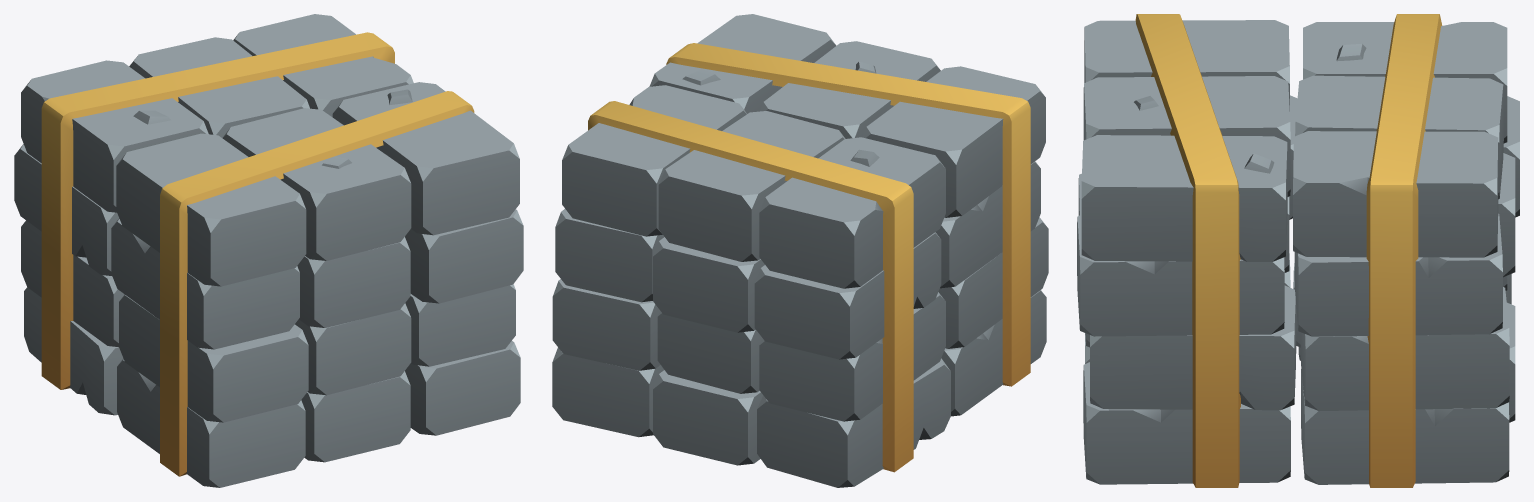
Rendered from stone_bricks_stack_large.glb.
3 renders of one model, left to right at view 1: azimuth 30°, elevation 25°; view 2: azimuth 150°, elevation 25°; view 3: azimuth 270°, elevation 25°, orthographic. The views are drawn at different scales.
Parts seen in each view (by area): view 1: Stone_Bricks_Stack_Large; view 2: Stone_Bricks_Stack_Large; view 3: Stone_Bricks_Stack_Large.
Part boxes in pixels (<box>): Stone_Bricks_Stack_Large: <box>14,14,523,487</box>; Stone_Bricks_Stack_Large: <box>552,14,1048,487</box>; Stone_Bricks_Stack_Large: <box>1077,14,1519,487</box>.
Bounding box in the file's own units: 0.9037 × 0.7399 × 0.9751.
Materials: 1 (1 with a texture image).
